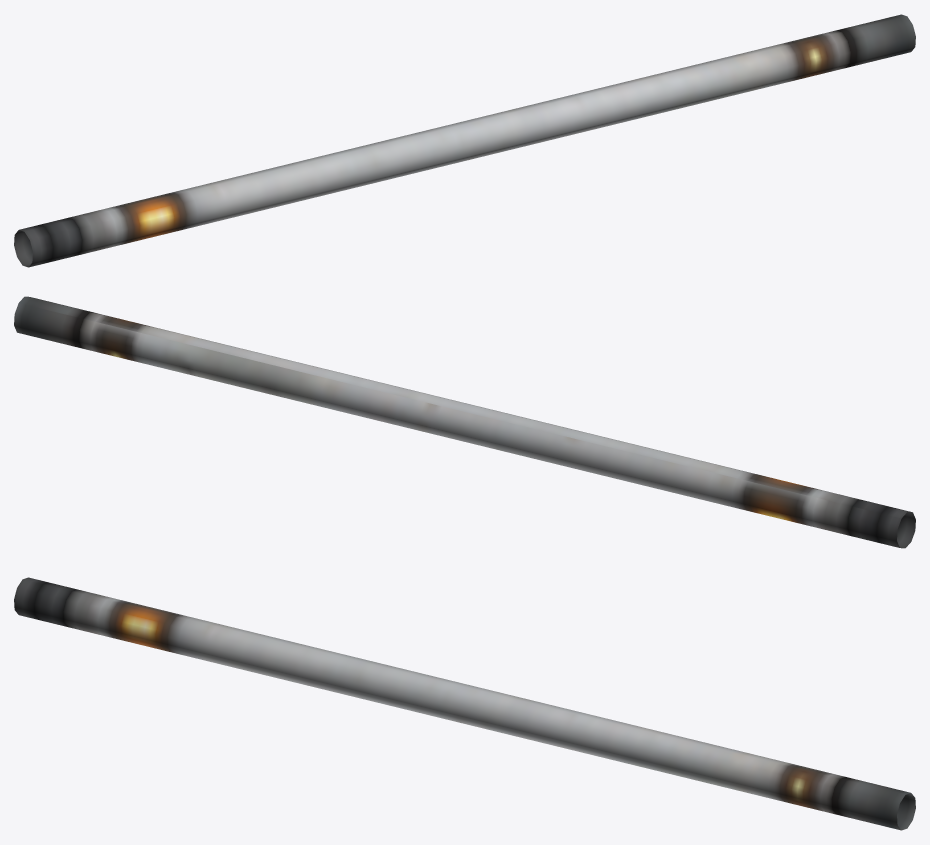
File: barraparedemeio.fbx
3 views of the same model, one above another, from view 1: azimuth 30°, elevation 25°; view 2: azimuth 150°, elevation 25°; view 3: azimuth 330°, elevation 25° (orthographic).
Parts seen in each view (by area): view 1: Cylinder.001; view 2: Cylinder.001; view 3: Cylinder.001.
Part boxes in pixels (x1,y1,x2,y2): Cylinder.001: (14,14,915,267); Cylinder.001: (14,296,915,548); Cylinder.001: (14,577,915,830).
Size of the model in its own units: 3.54 by 0.1343 by 0.1321.
